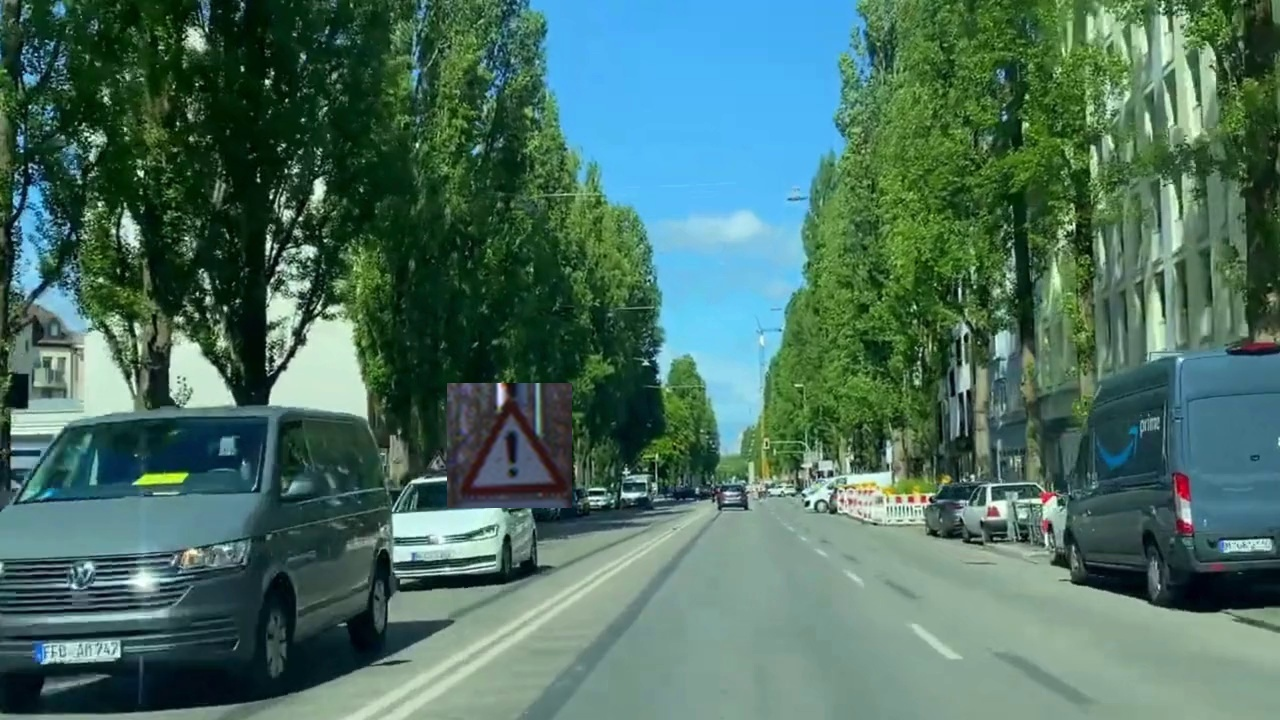Caution: (447, 383, 572, 508)
